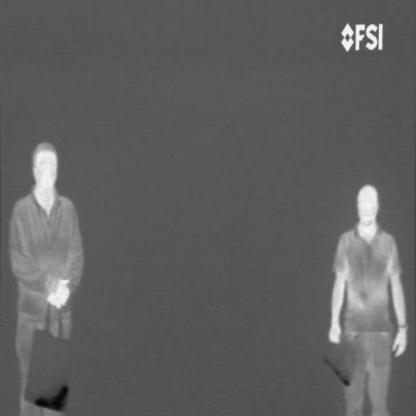weapon: (34, 383, 68, 413)
